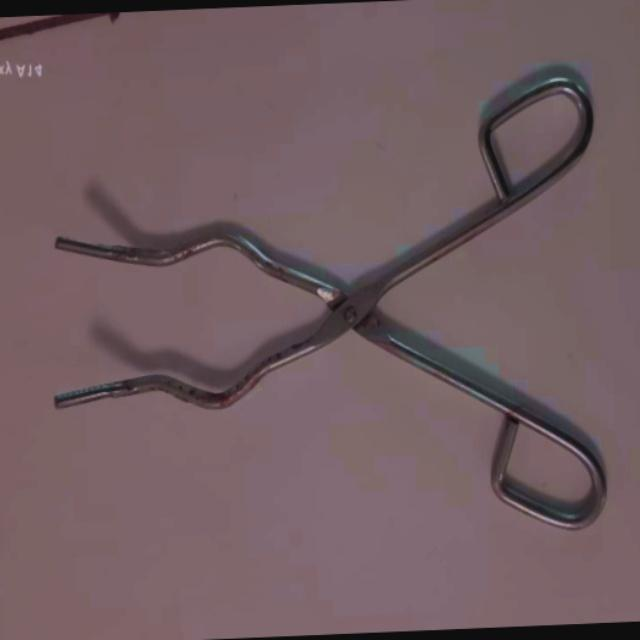Tongue: (21, 60, 640, 557)
